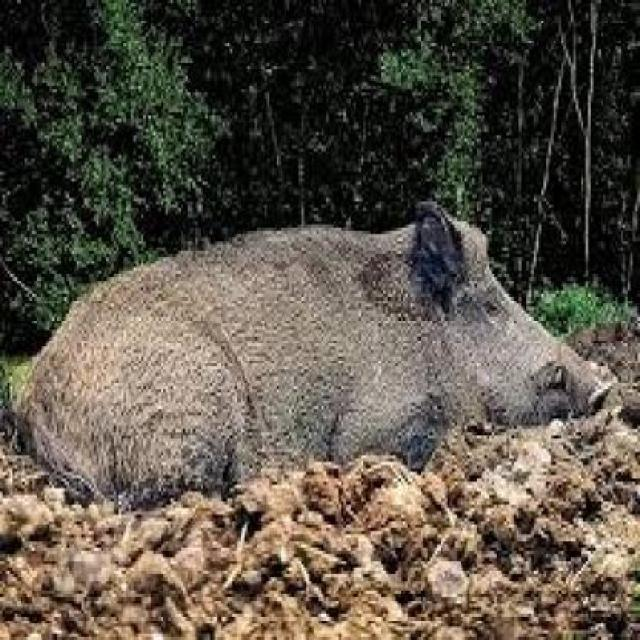wildboar: (12, 193, 620, 527)
